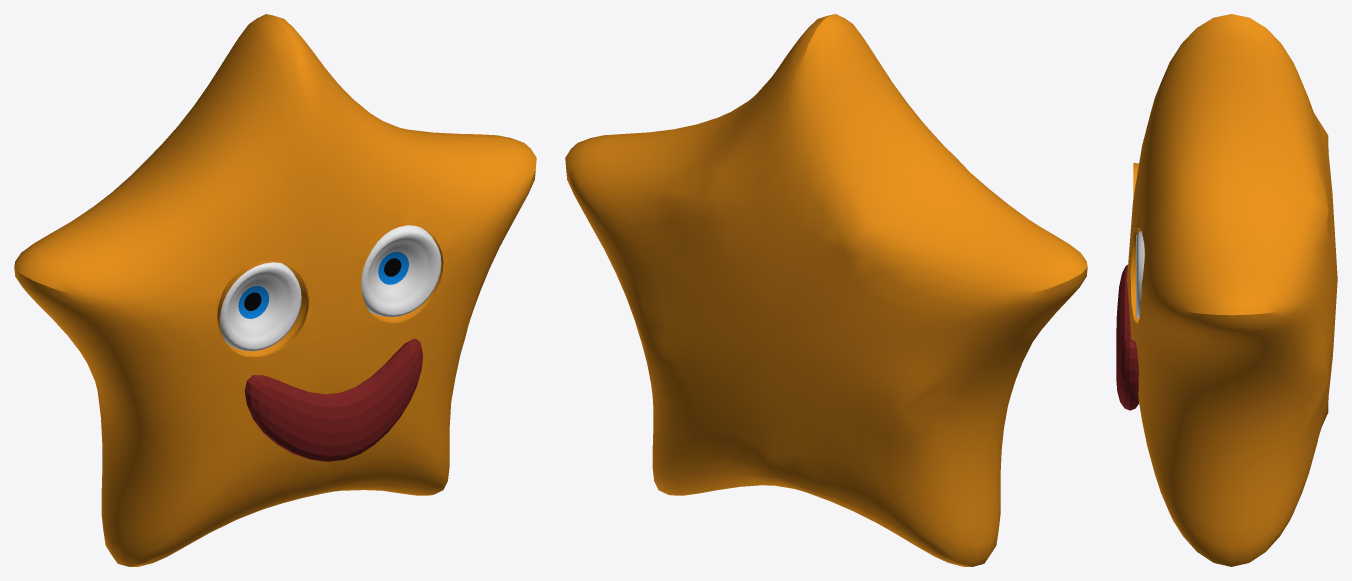
Rendered from StarCharacter.fbx.
3 views of the same model, side by side, from view 1: azimuth 30°, elevation 25°; view 2: azimuth 150°, elevation 25°; view 3: azimuth 270°, elevation 25° (orthographic). The views are drawn at different scales.
Visible parts, largest first — view 1: Star, Mouth, Star Eyes; view 2: Star; view 3: Star, Mouth, Star Eyes.
Part boxes in pixels (x1,y1,x2,y2): Star: [14, 14, 536, 566]; Mouth: [244, 338, 422, 461]; Star Eyes: [220, 225, 441, 351]; Star: [565, 14, 1087, 566]; Star: [1127, 14, 1337, 566]; Mouth: [1116, 264, 1138, 410]; Star Eyes: [1136, 231, 1144, 319].
Bounding box in the file's own units: 229 × 218 × 90.95.
